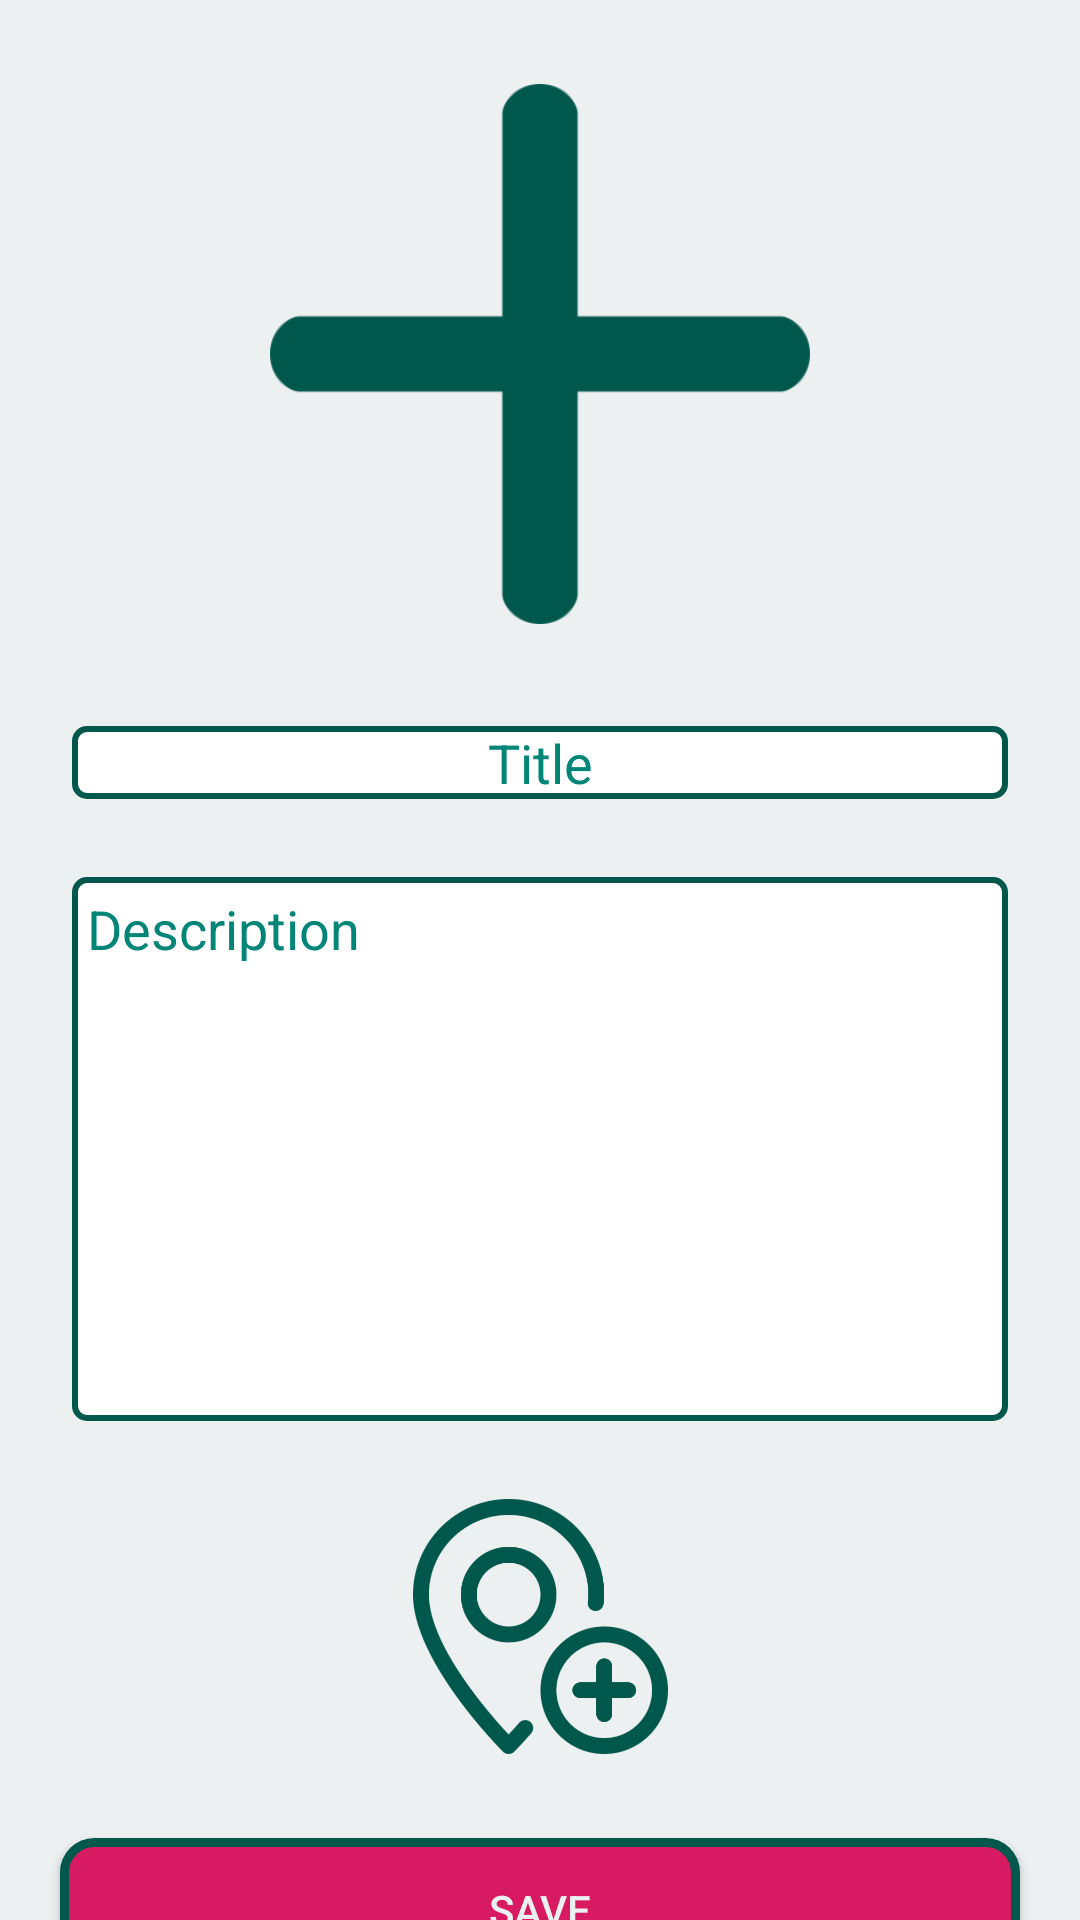

Locate icon controls on the screen. Image size 1080*1920, boxes as bbox=(x1, y1, x2, y2).
location: bbox=(413, 1499, 668, 1754)
